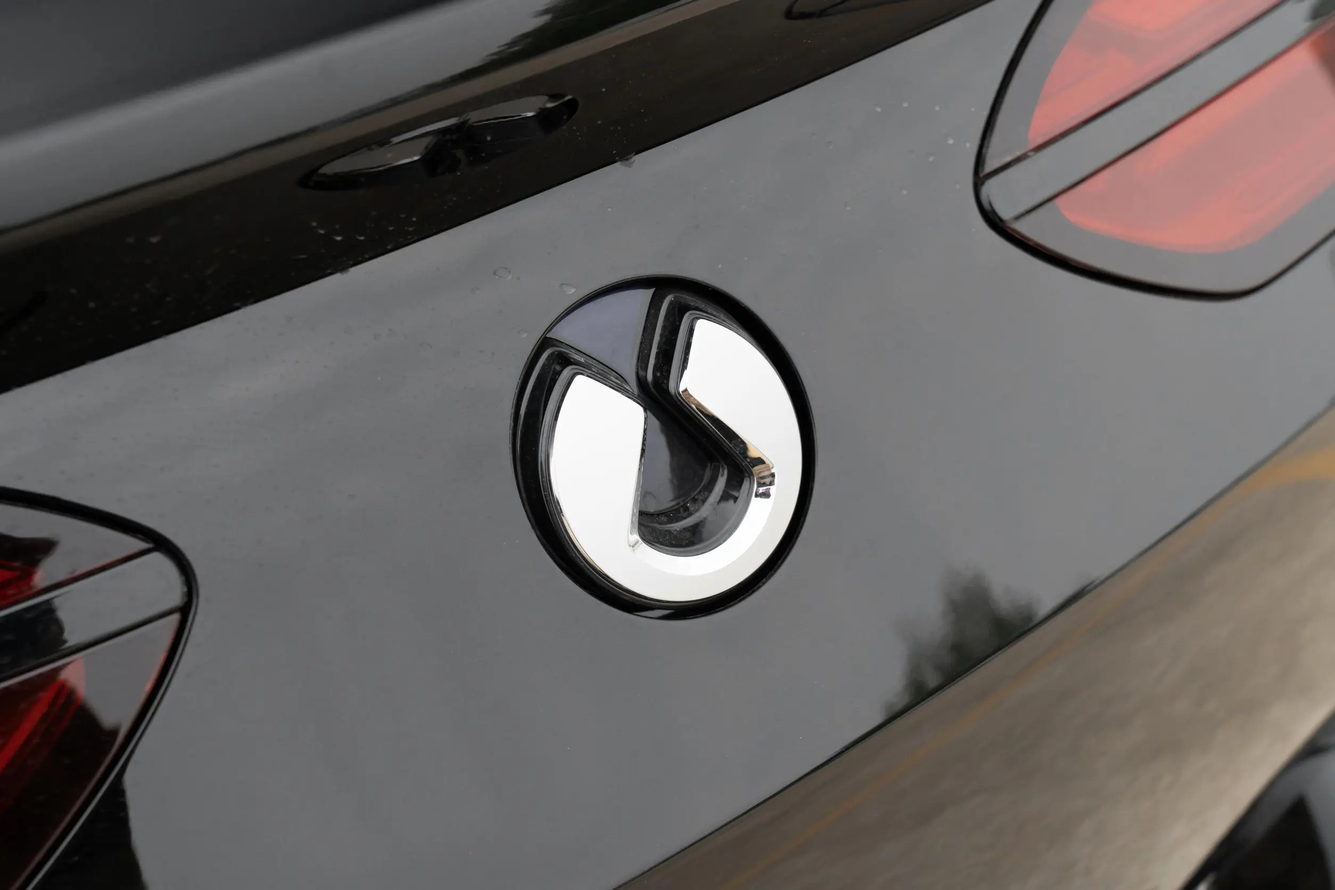DENZA: (551, 321, 800, 600)
